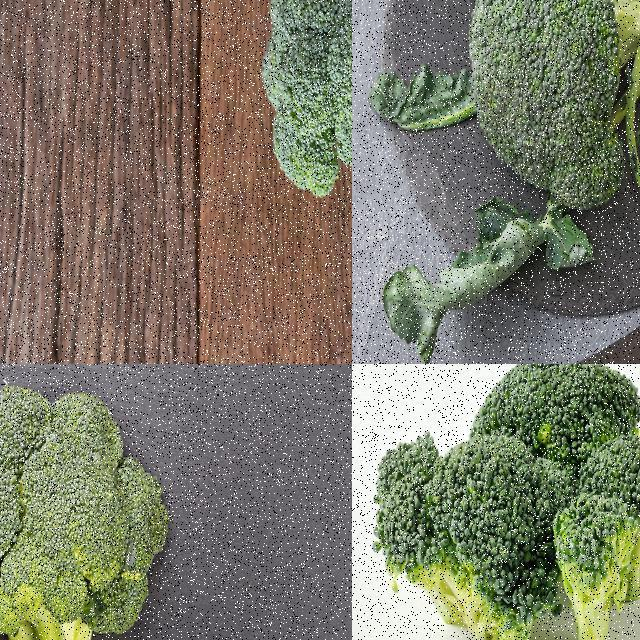broccoli: (368, 364, 639, 639), (0, 381, 172, 639), (469, 0, 639, 206), (247, 0, 351, 289)
